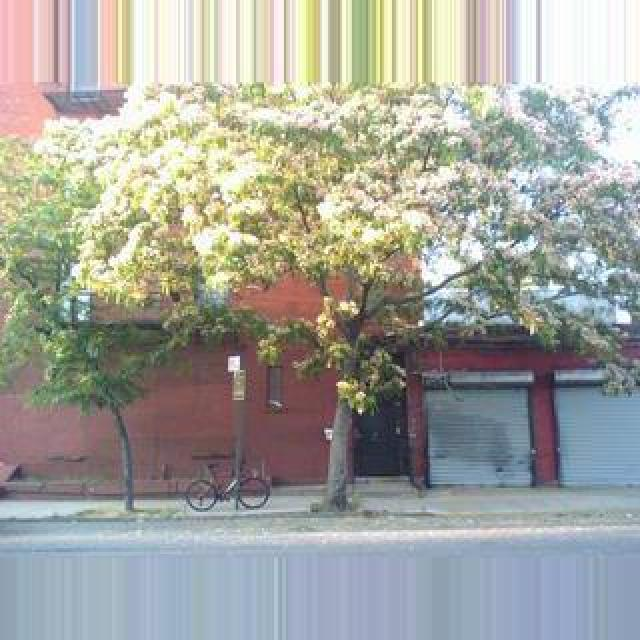Person: (187, 457, 271, 513)
